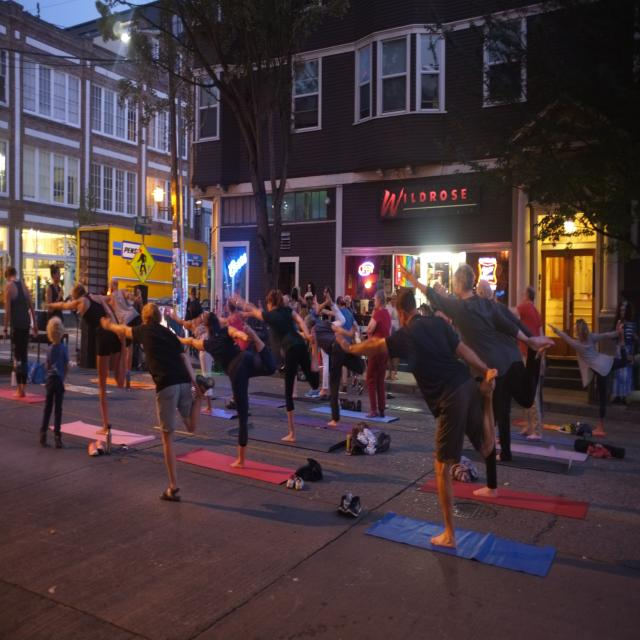body: (331, 284, 498, 550), (397, 260, 556, 499), (99, 301, 216, 504), (432, 278, 552, 465), (171, 310, 278, 472), (230, 287, 321, 445), (40, 281, 128, 436), (545, 317, 632, 437), (492, 284, 545, 440), (296, 313, 365, 427), (82, 277, 148, 389), (207, 299, 266, 404), (166, 300, 218, 414), (296, 296, 346, 397), (2, 264, 39, 398), (38, 313, 70, 450), (366, 288, 392, 418), (336, 295, 364, 396), (611, 301, 636, 406), (46, 264, 73, 347), (384, 291, 399, 382), (288, 288, 301, 380), (184, 286, 199, 358), (418, 295, 441, 317), (300, 281, 318, 308), (322, 285, 332, 322), (0, 268, 4, 329), (344, 295, 353, 317), (220, 300, 230, 318), (280, 293, 290, 306)
